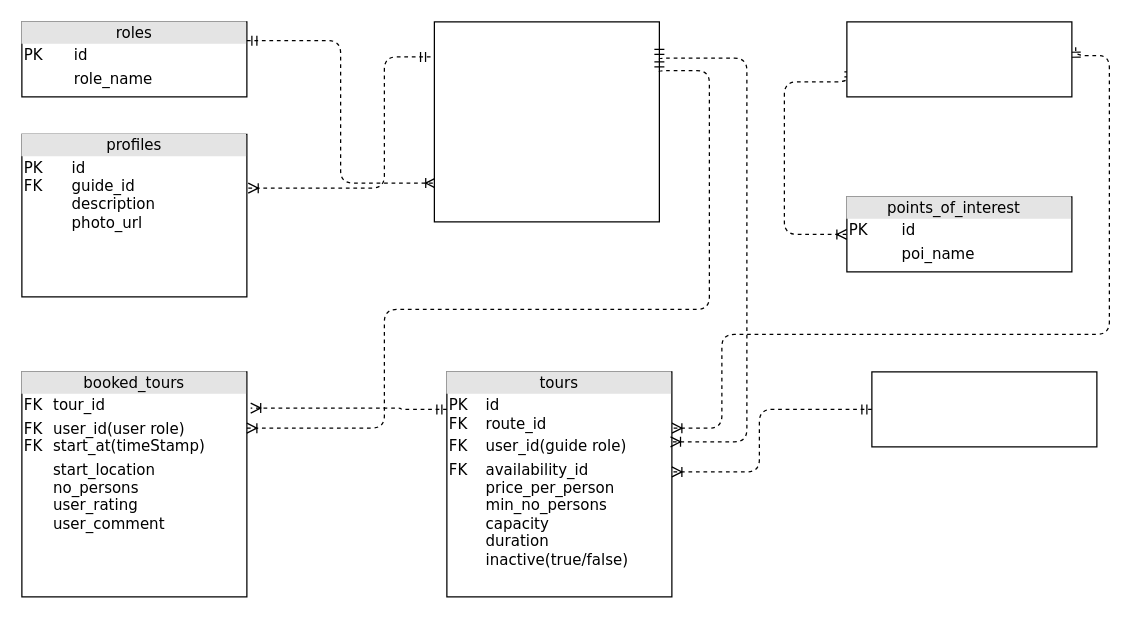
The diagram is 1143 pixels wide and 619 high, and some of its shapes have lost their labels. Each missing label, with the box of its shape:
availability PK id day_name: (871, 371, 1097, 447)
routes PK id FK poi_arr: (846, 21, 1072, 97)
users PK id firstName lastName email FK password phone role_id: (433, 21, 659, 222)
